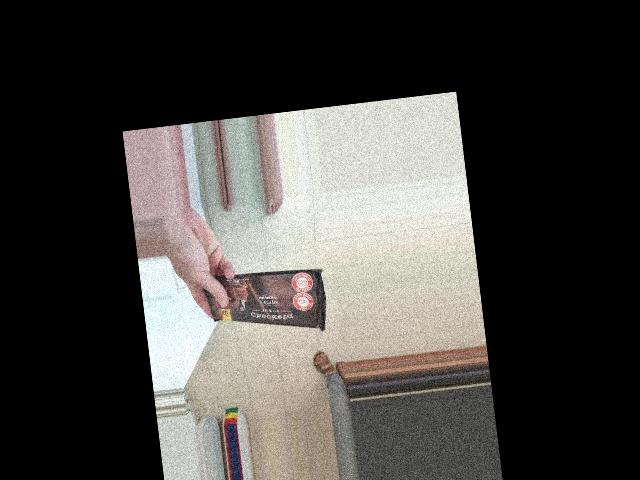chocolate: (203, 252, 332, 346)
